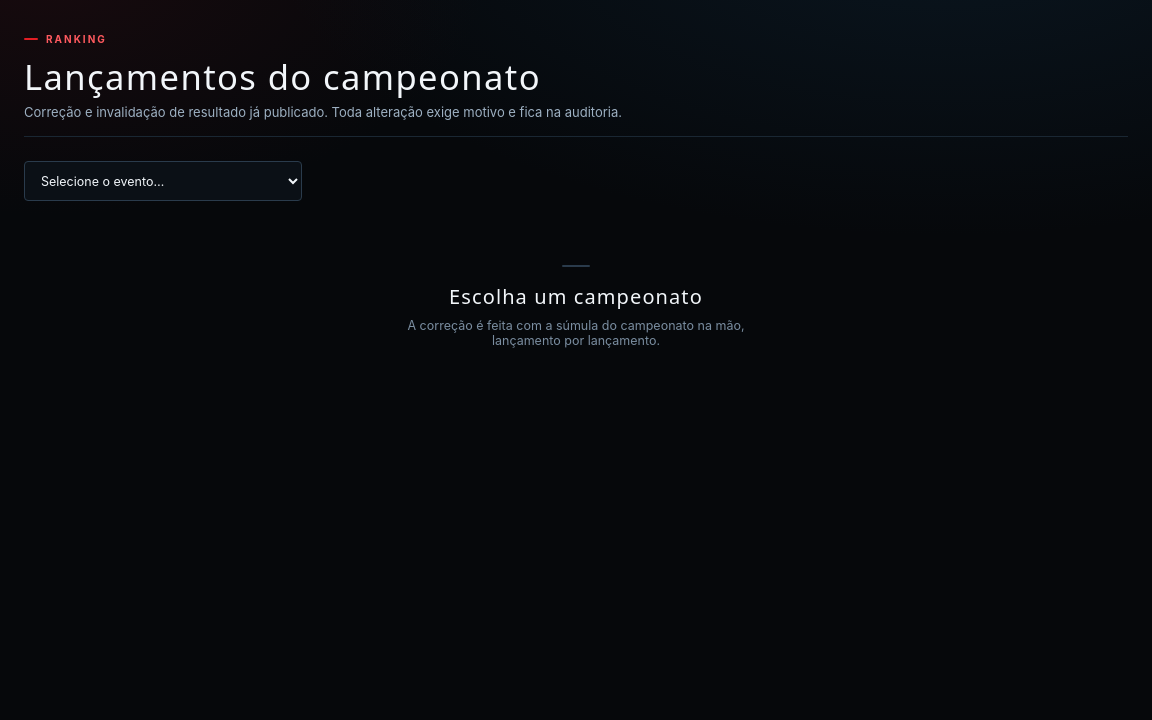
corrigir › sem motivo, o botão de confirmar não grava
Later steps or results of the test are not shown.
Select "Etapa Cuiabá — Resultados publicados" in the dropdown named "selecionar evento". click: (163, 181)
box: [24,161,302,201]
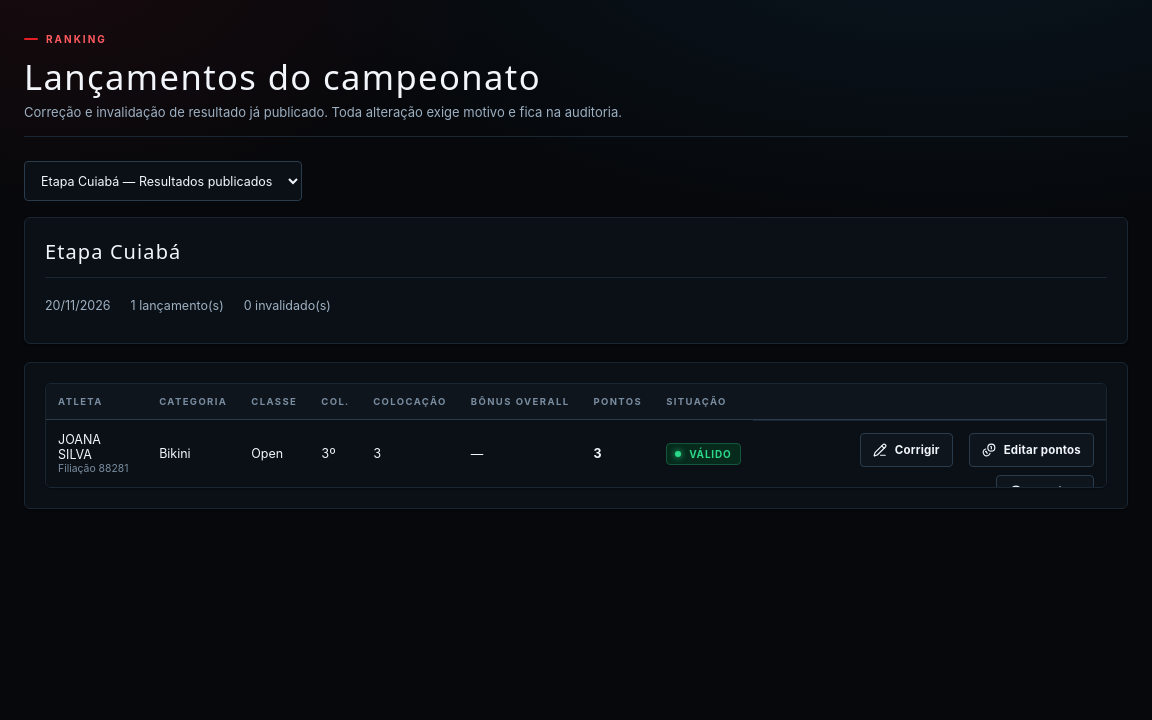
Click the button "Corrigir". click: (906, 450)
box: [860,433,953,467]
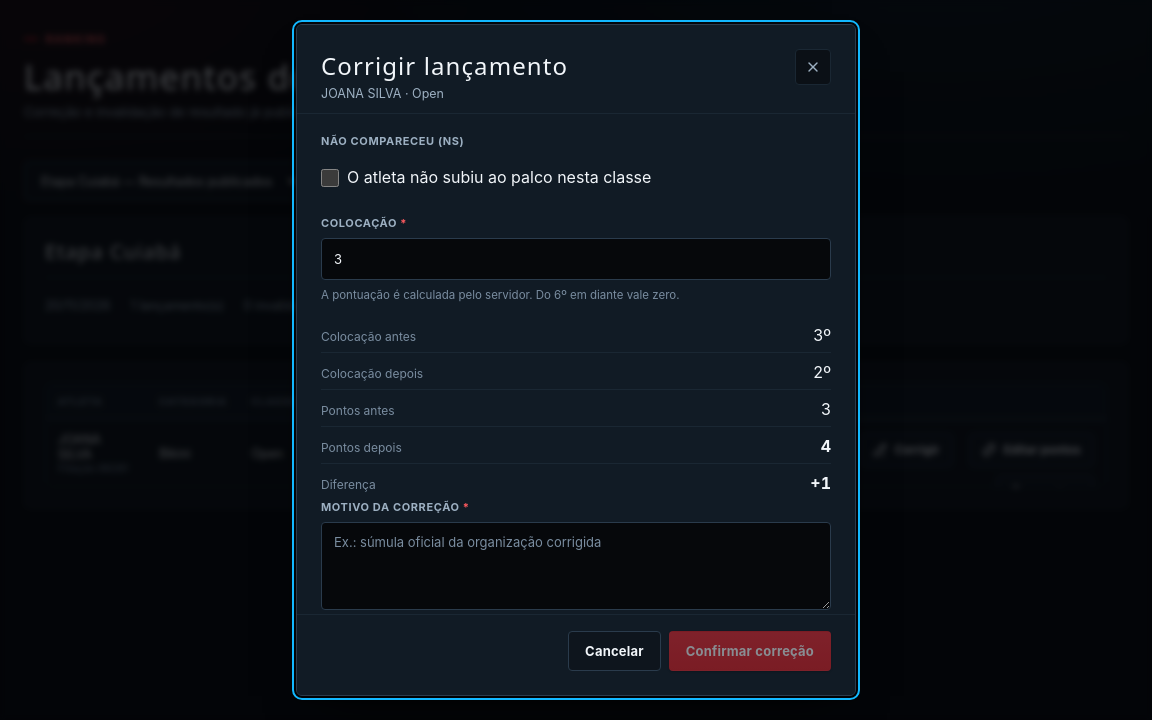
Expected: the dialog is shown
Replace the text in the number field labelled "Colocação" with "2". click: (576, 259)
box: [321,238,831,280]
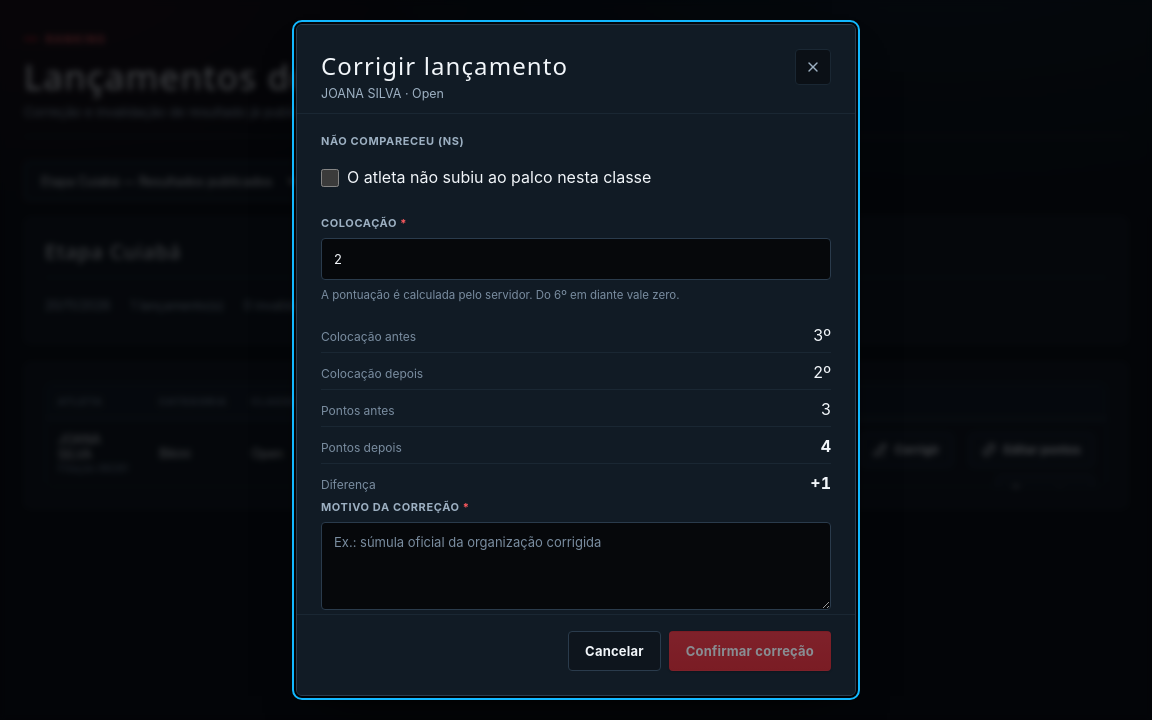
Expected: the button "Confirmar correção" is disabled, [669,631,831,671]
